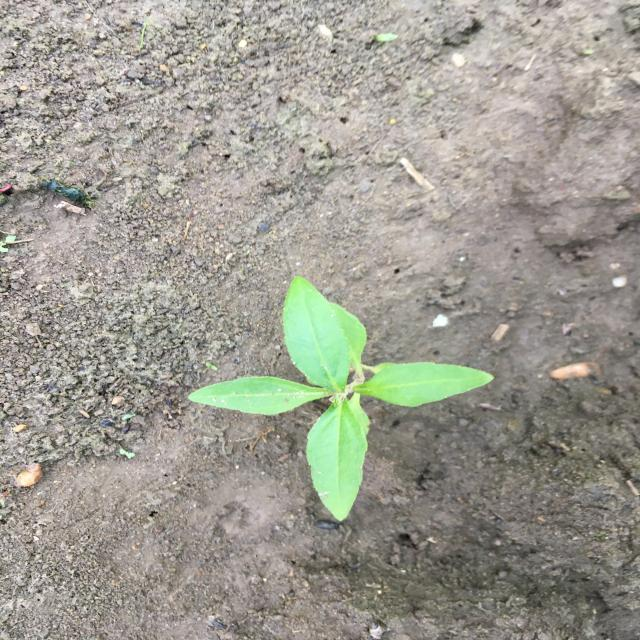Eclipta: (187, 274, 498, 523)
